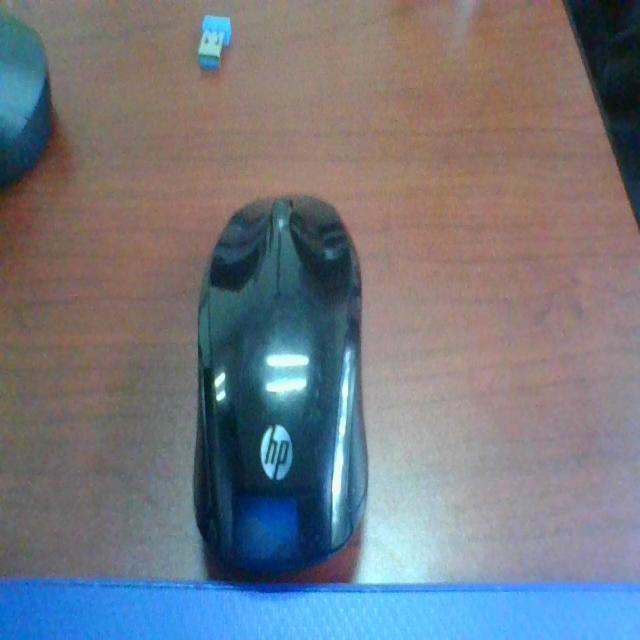Mouse: (196, 184, 392, 560)
